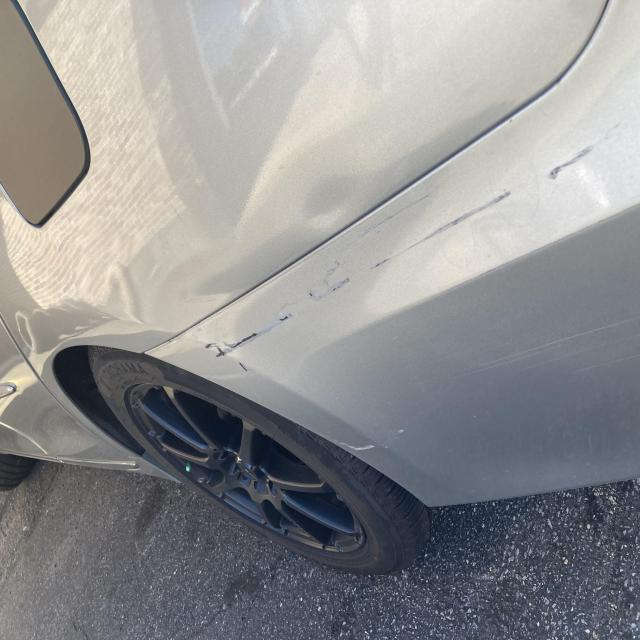dents: (299, 187, 381, 258), (100, 248, 156, 328)
